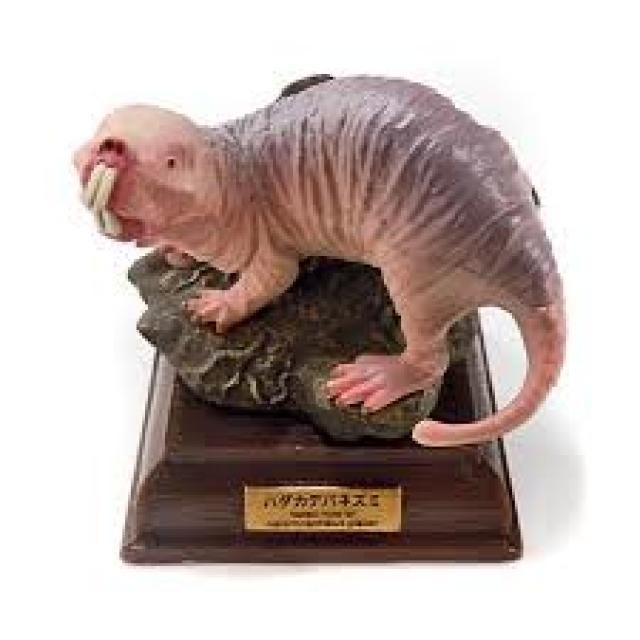rat: (71, 68, 566, 450), (122, 242, 464, 444)
